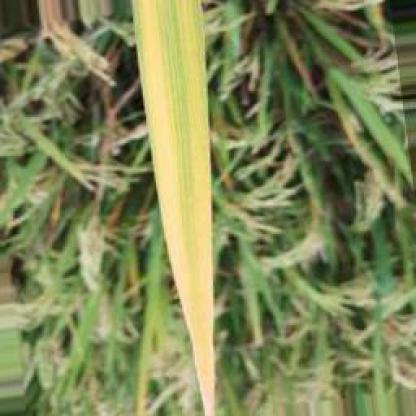Tungro: (130, 1, 220, 414)
